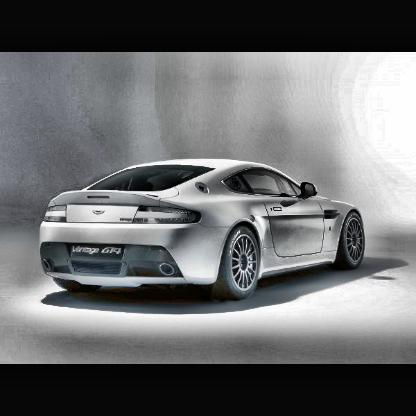Aston Martin V8 Vantage Coupe 2012: (40, 160, 364, 304)
